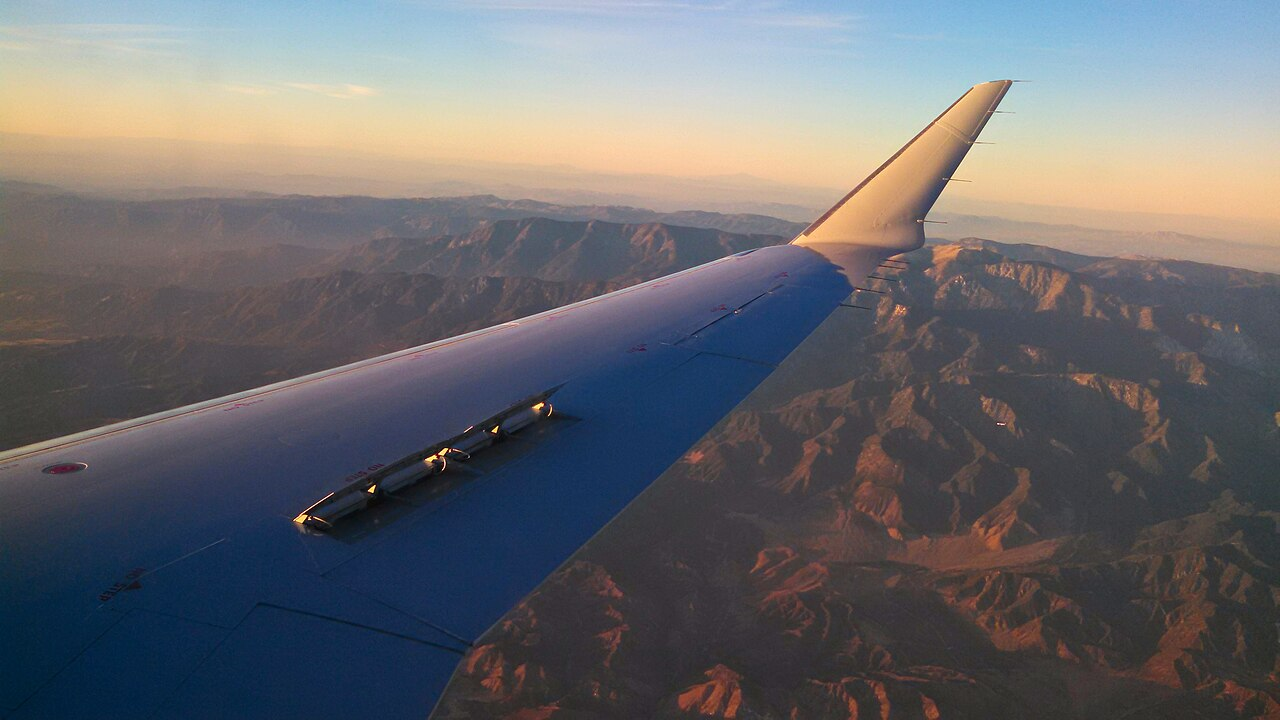aircraft: (0, 78, 1015, 720)
